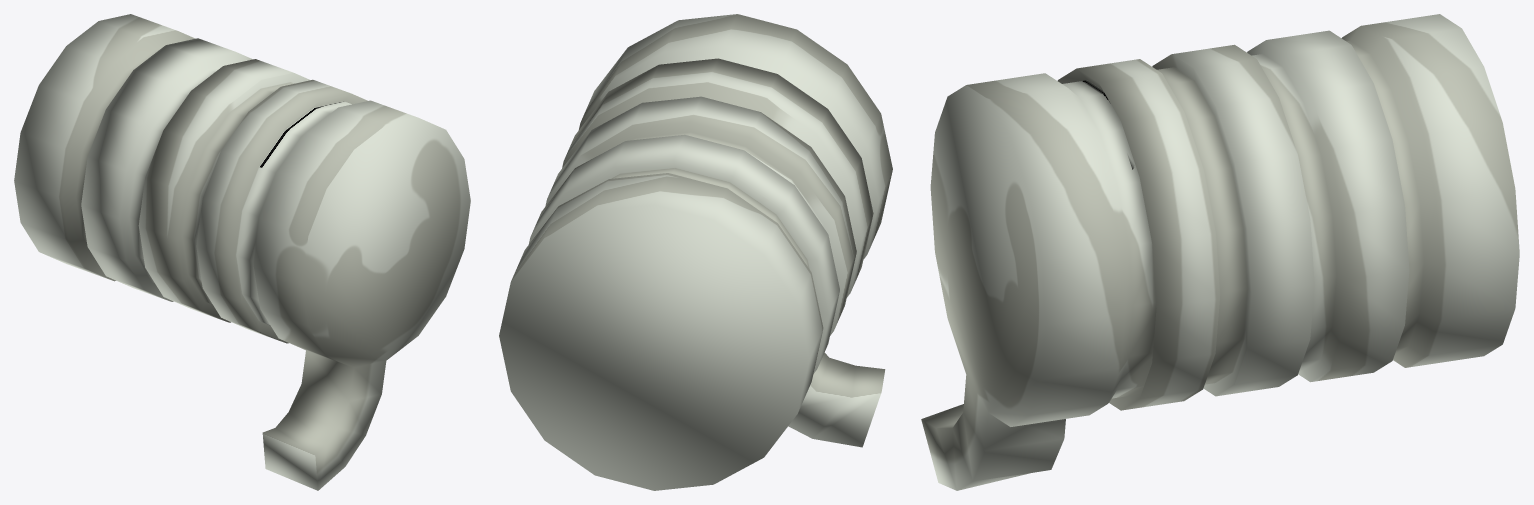
File: birdfix.fbx
3 views of the same model, side by side, from view 1: azimuth 30°, elevation 25°; view 2: azimuth 150°, elevation 25°; view 3: azimuth 270°, elevation 25° (orthographic). The views are drawn at different scales.
Parts seen in each view (by area): view 1: birdfix; view 2: birdfix; view 3: birdfix.
Part boxes in pixels (box(x1,y1,x2,y2)): birdfix: box(14, 14, 470, 490); birdfix: box(499, 14, 892, 490); birdfix: box(921, 14, 1519, 490).
Size of the model in its own units: 9.03 by 7.32 by 7.45.
